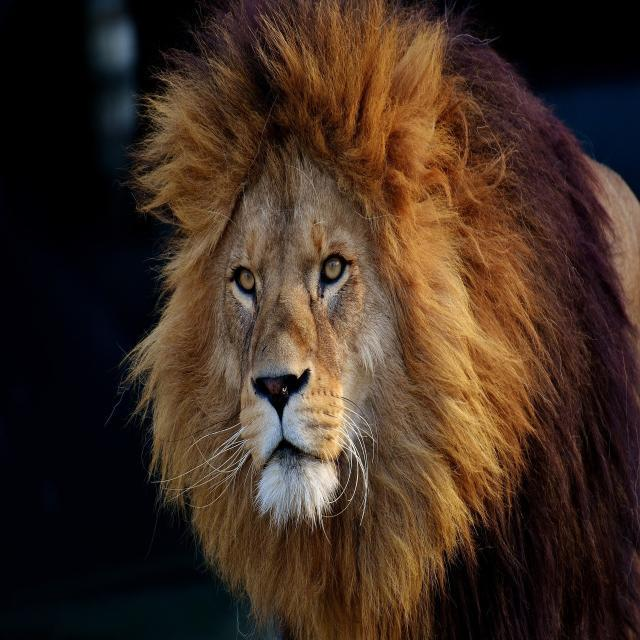lions: (5, 14, 640, 640)
